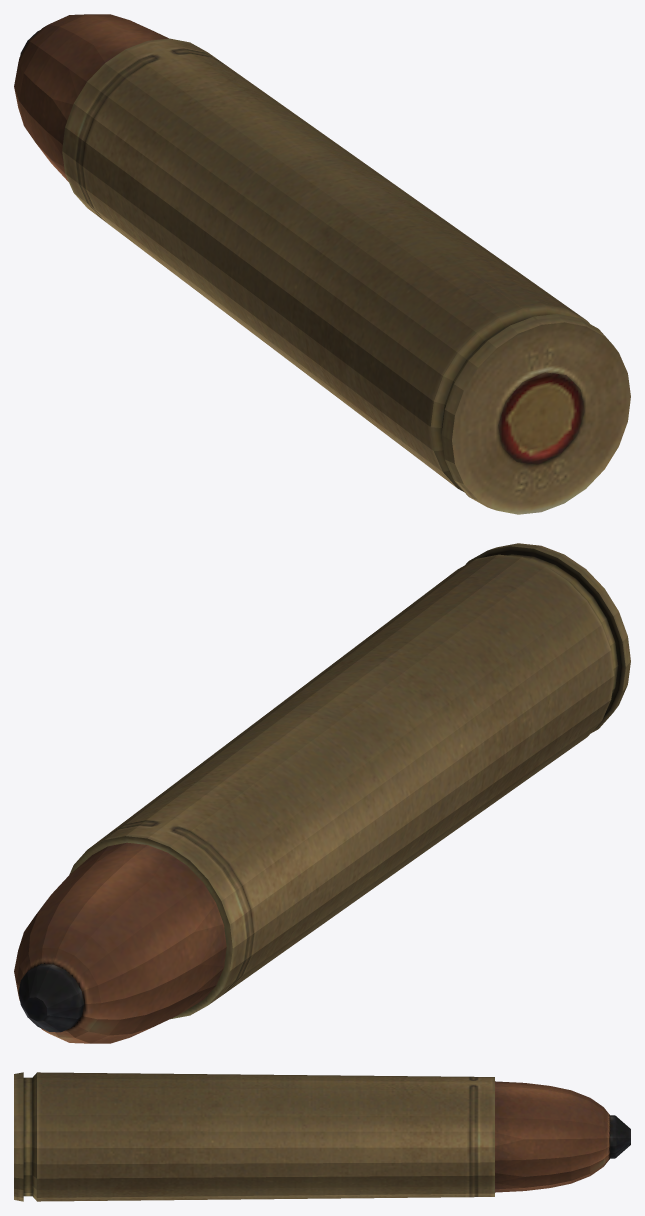
3 renders of one model, top to bottom at view 1: azimuth 30°, elevation 25°; view 2: azimuth 150°, elevation 25°; view 3: azimuth 270°, elevation 25°, orthographic. The views are drawn at different scales.
Parts seen in each view (by area): view 1: TW_5cadf6eeae921500134b2799_PZ_Import; view 2: TW_5cadf6eeae921500134b2799_PZ_Import; view 3: TW_5cadf6eeae921500134b2799_PZ_Import.
Boxes of the visible parts, x1,y1,x2,y2 form: TW_5cadf6eeae921500134b2799_PZ_Import: (14,14,630,514); TW_5cadf6eeae921500134b2799_PZ_Import: (14,543,630,1043); TW_5cadf6eeae921500134b2799_PZ_Import: (14,1072,630,1201).
Bounding box in the file's own units: 0.00858 × 0.0408 × 0.00858.
Materials: 1 (1 with a texture image).
